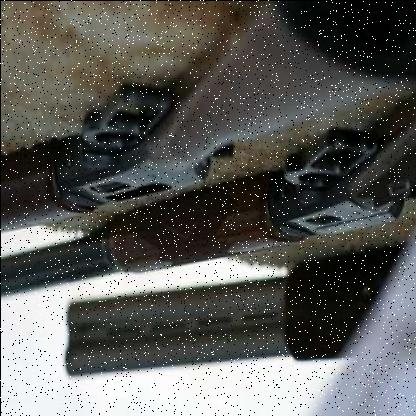rifle: (7, 126, 411, 341), (1, 1, 294, 246)
